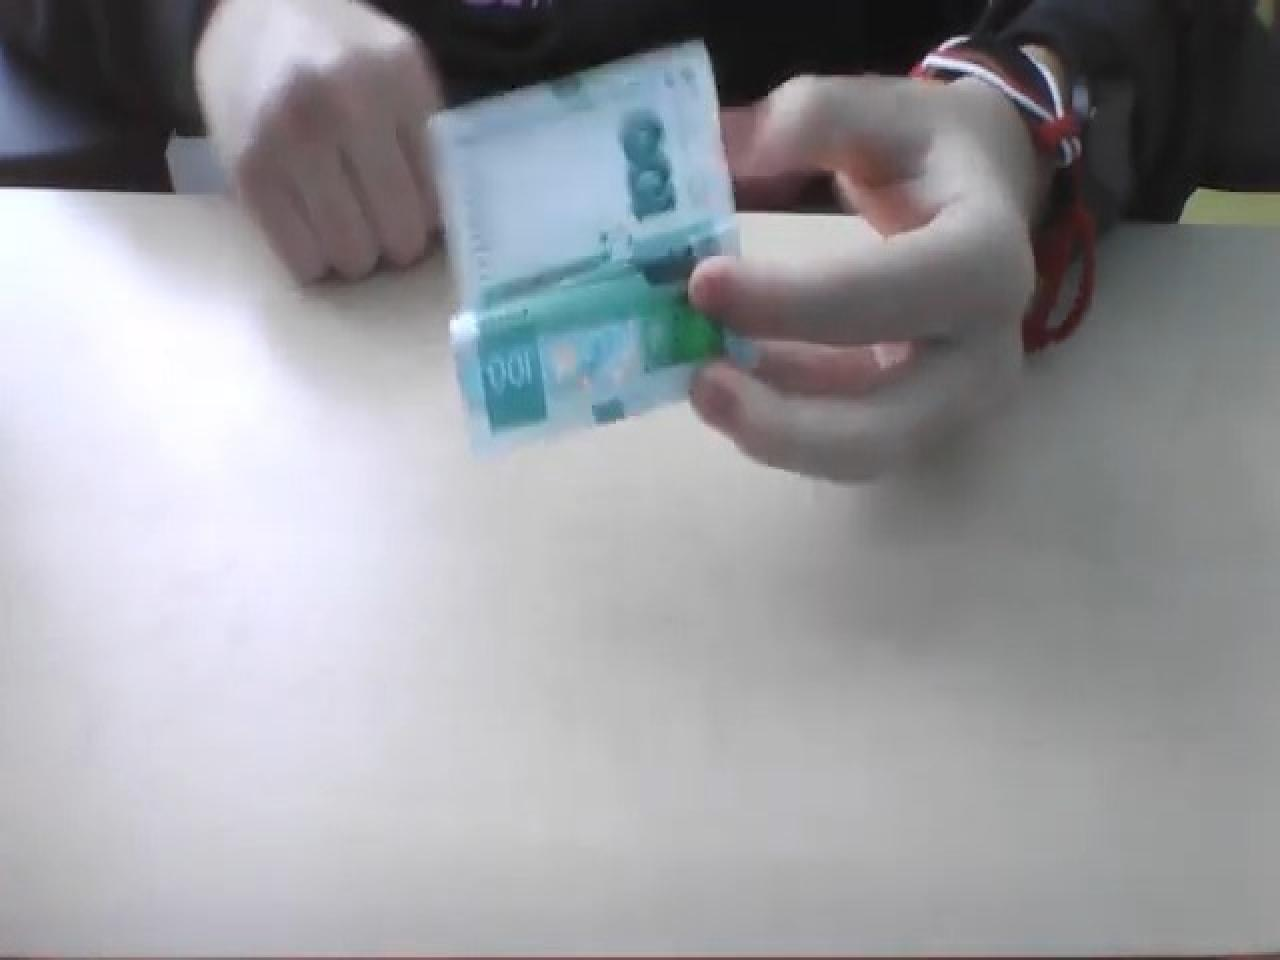100leva: (424, 34, 756, 453)
